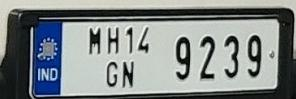1: (123, 23, 135, 54)
2: (197, 34, 214, 82)
3: (222, 34, 241, 78)
4: (136, 24, 150, 53)
9: (174, 35, 191, 80), (245, 33, 262, 78)
G: (105, 58, 119, 87)
H: (105, 25, 121, 54)
M: (86, 24, 102, 55)
N: (120, 60, 135, 89)
